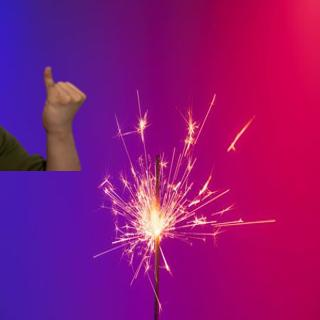FINE: (36, 61, 89, 141)
